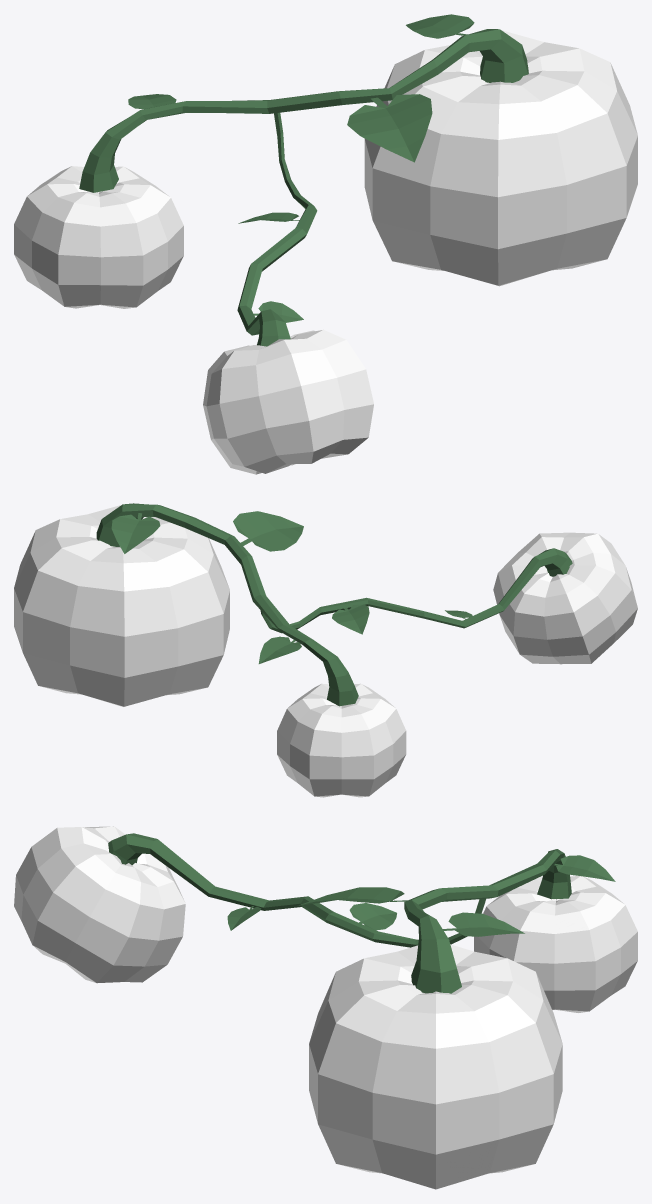
The model's file is PumpkinPlant(1).fbx.
The picture shows the model from 3 angles, top to bottom: view 1: azimuth 30°, elevation 25°; view 2: azimuth 150°, elevation 25°; view 3: azimuth 270°, elevation 25°; orthographic projection. The views are drawn at different scales.
Visible parts, largest first — view 1: PumpkinPlant(1); view 2: PumpkinPlant(1); view 3: PumpkinPlant(1).
Part boxes in pixels (x1,y1,x2,y2): PumpkinPlant(1): (14, 14, 637, 474); PumpkinPlant(1): (14, 503, 637, 797); PumpkinPlant(1): (14, 826, 637, 1189).
Bounding box in the file's own units: 2.05 × 0.7662 × 1.94.
